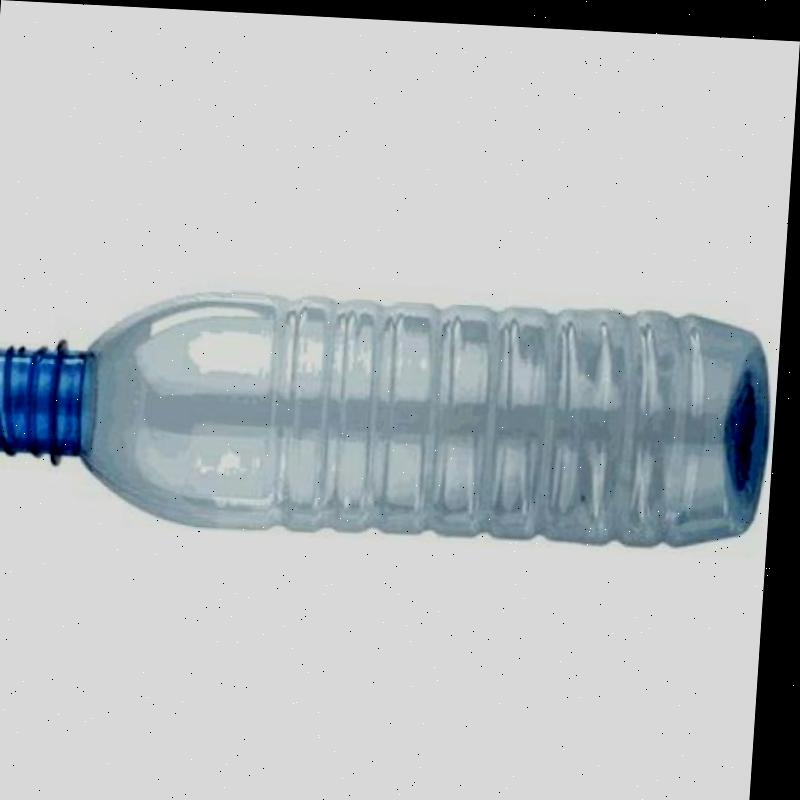botella: (0, 278, 776, 554)
